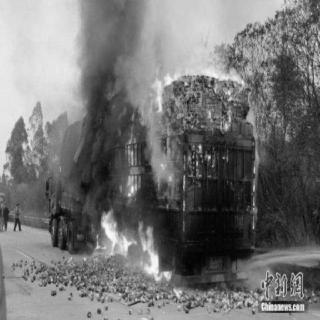other: (43, 162, 63, 216)
